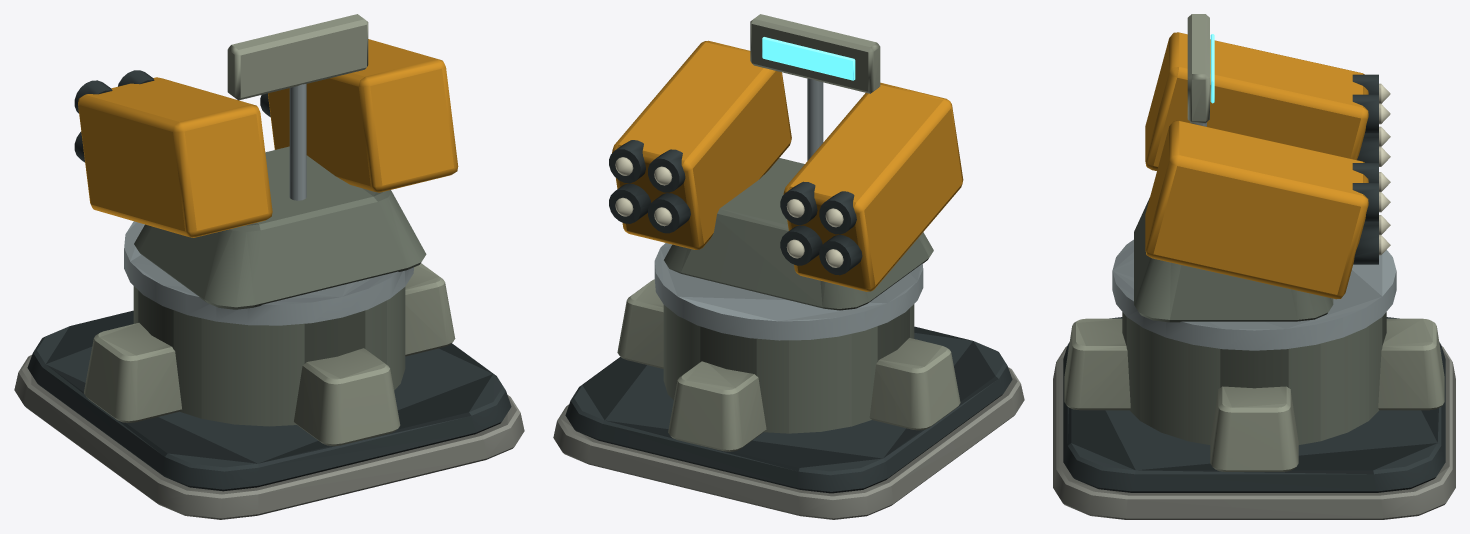
The model's file is AntiAirTurret.glb.
The picture shows the model from 3 angles, left to right: view 1: azimuth 30°, elevation 25°; view 2: azimuth 150°, elevation 25°; view 3: azimuth 270°, elevation 25°; orthographic projection. The views are drawn at different scales.
Parts seen in each view (by area): view 1: export_AntiAirTurret_Footing, export_AntiAirTurret_MissileCradle, export_AntiAirTurret_TurretShell; view 2: export_AntiAirTurret_Footing, export_AntiAirTurret_MissileCradle, export_AntiAirTurret_TurretShell; view 3: export_AntiAirTurret_Footing, export_AntiAirTurret_MissileCradle, export_AntiAirTurret_TurretShell.
Part boxes in pixels (x1,y1,x2,y2): export_AntiAirTurret_Footing: (14, 221, 524, 519); export_AntiAirTurret_MissileCradle: (74, 39, 458, 237); export_AntiAirTurret_TurretShell: (134, 14, 426, 309); export_AntiAirTurret_Footing: (553, 243, 1024, 519); export_AntiAirTurret_MissileCradle: (609, 40, 963, 291); export_AntiAirTurret_TurretShell: (664, 14, 933, 310); export_AntiAirTurret_Footing: (1053, 239, 1455, 519); export_AntiAirTurret_MissileCradle: (1145, 32, 1390, 299); export_AntiAirTurret_TurretShell: (1134, 14, 1333, 322).
Size of the model in its own units: 2.89 by 3.11 by 2.89.
